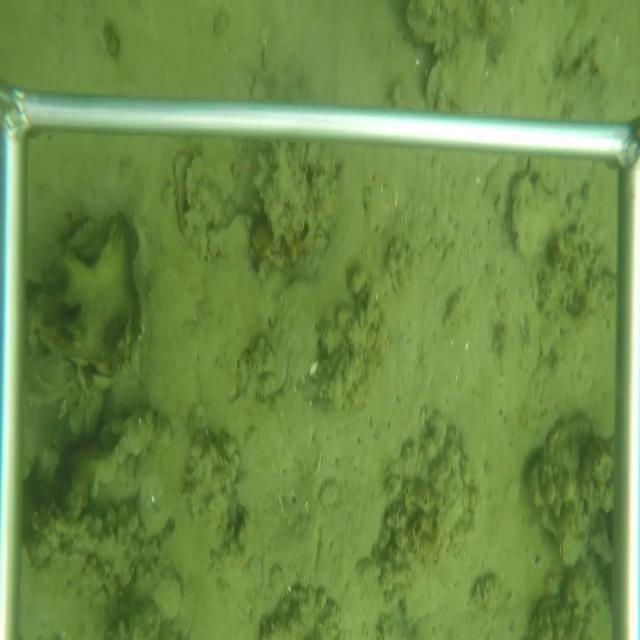Oyster-Closed: (173, 151, 196, 242), (183, 151, 209, 209)
Oyster-Indeterminate: (508, 173, 566, 264), (422, 35, 488, 113)
